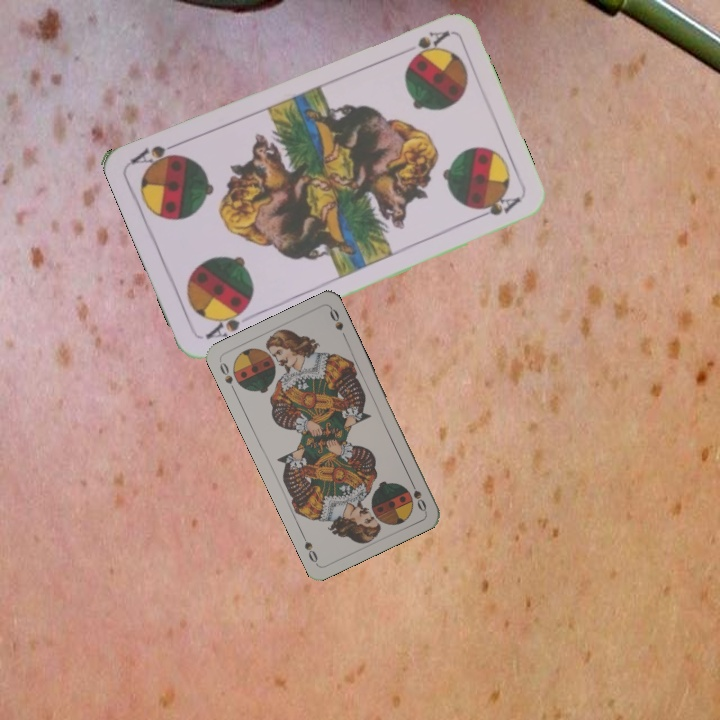SA: (395, 26, 452, 62), (201, 302, 251, 342)
SO: (215, 357, 239, 395), (406, 475, 429, 514)
